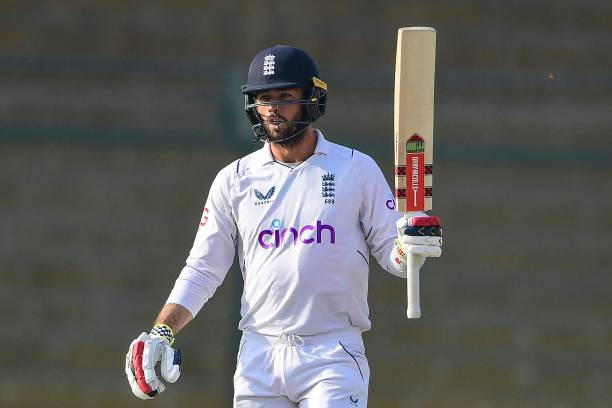bottom left: (427, 19, 448, 47)
bottom right: (387, 21, 410, 47)
top left: (420, 199, 441, 217)
top right: (389, 199, 410, 219)
